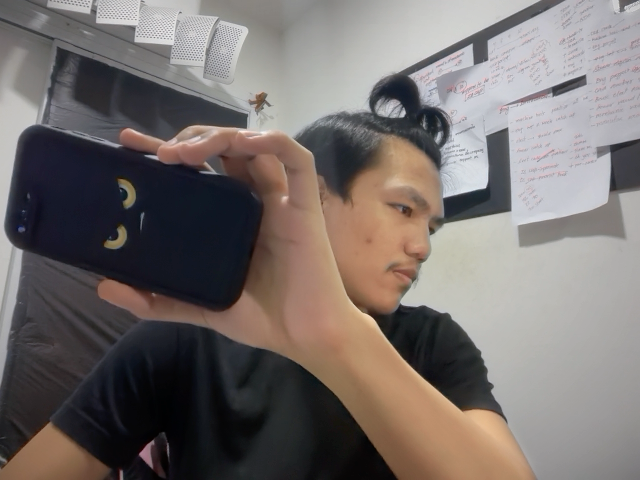phone: (2, 104, 274, 322)
